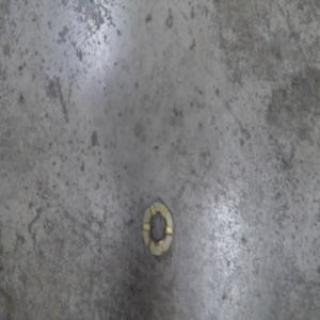Nuttrack_idkeyframe: (140, 194, 174, 258)
